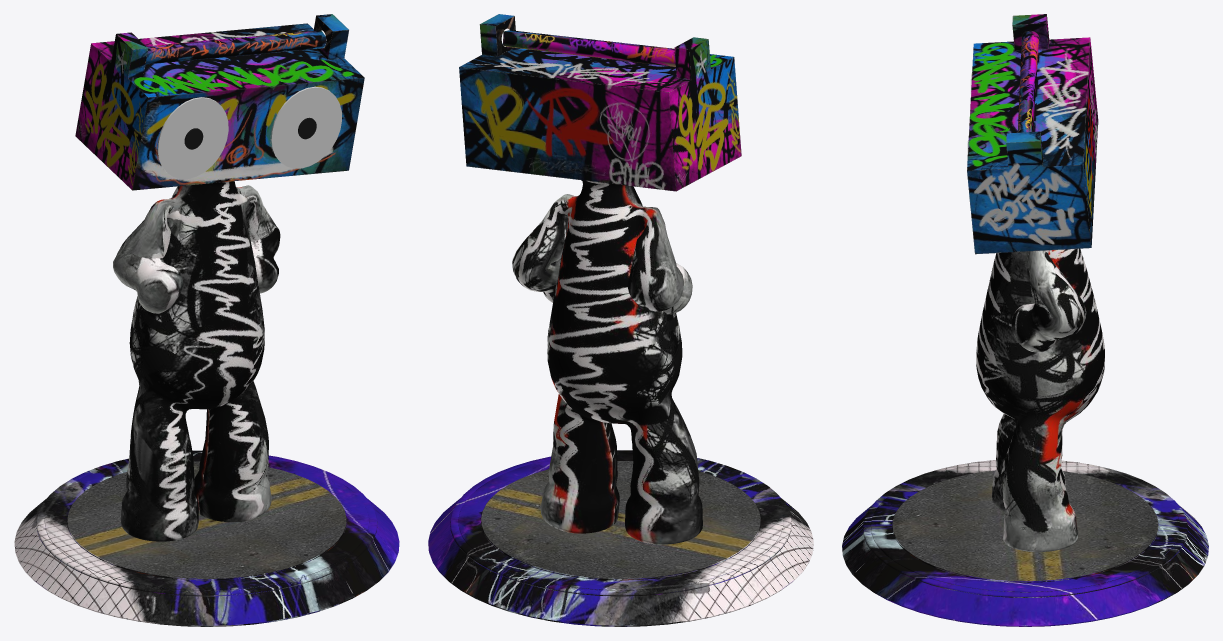
3 renders of one model, left to right at view 1: azimuth 30°, elevation 25°; view 2: azimuth 150°, elevation 25°; view 3: azimuth 270°, elevation 25°, orthographic. The views are drawn at different scales.
Bounding box in the file's own units: 1.45 × 2.17 × 1.45.
Materials: 6 (4 with a texture image).
